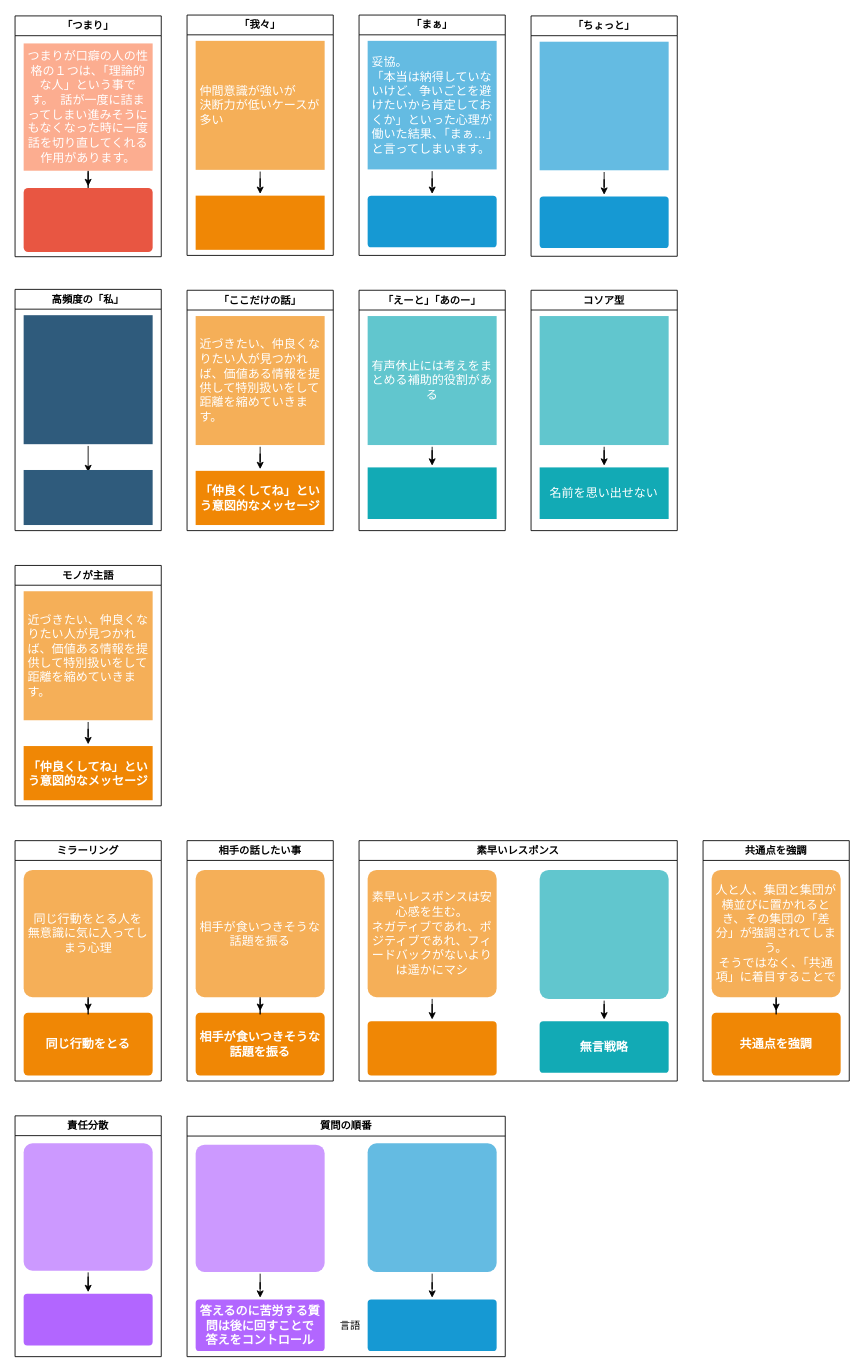
The diagram is 864 pixels wide and 1372 high, and some of its shapes have lost their labels. The shapes that lost their labels are listed below. From the top down, each one's centre as x and y in pixels, then its label:
the point at 603,105: 「ちょっと」を付けるとクッションの役目をして、棘のないやんわりとした表現にすることができ、 > 本音をはぐらかすことができます。
the point at 87,219: 「本質を見極める力」 がある状態 変革に向けた準備が できている
the point at 259,222: 「我々」 仲間意識が強い
the point at 431,221: 「まぁ」 妥協
the point at 603,222: 「重く受け止めるな」 というメッセージ
the point at 87,379: 「私」を多く言う人は - 会話のボールを意識する人 - 権力者 - 正直者 これらの要素を自由要旨する
the point at 603,380: 名前の検索と，適切な表現の検討に二分される。 （中略）名前の検索とは簡単に言うと，モノ自体はわかっているが，モノの名前が思い出せないと言う場合の心的操作である。
the point at 87,497: 「私」の高頻度 「ボール」を意識している/権力/正直
the point at 431,493: 脳の回転が遅い、大量の情報に、脳がオーバーフローしている
the point at 603,933: 「無言」を選択することで 相手は勝手に不安要素を洗い出し、いろいろ想像してしまう 不安感をあおることが出来る
the point at 431,1048: 「リアクション」押下
the point at 87,1206: 他の人に同意をとりに行く 「〜〜だと思います。 XXさんどう思います？」
the point at 259,1208: 無作為に選んだ人に １、「デートの頻度」を問いかける ２，「今幸せか？」を問いかける デートの頻度に比例して幸せ度合が増加した
the point at 431,1207: 無作為に選んだ人に １、「今幸せか？」を問いかける ２、「デートの頻度」を問いかける 二つの数字に相関はなかった。
the point at 87,1319: 行動の一貫性の誘発 責任を発生させる
the point at 431,1325: 現状維持
